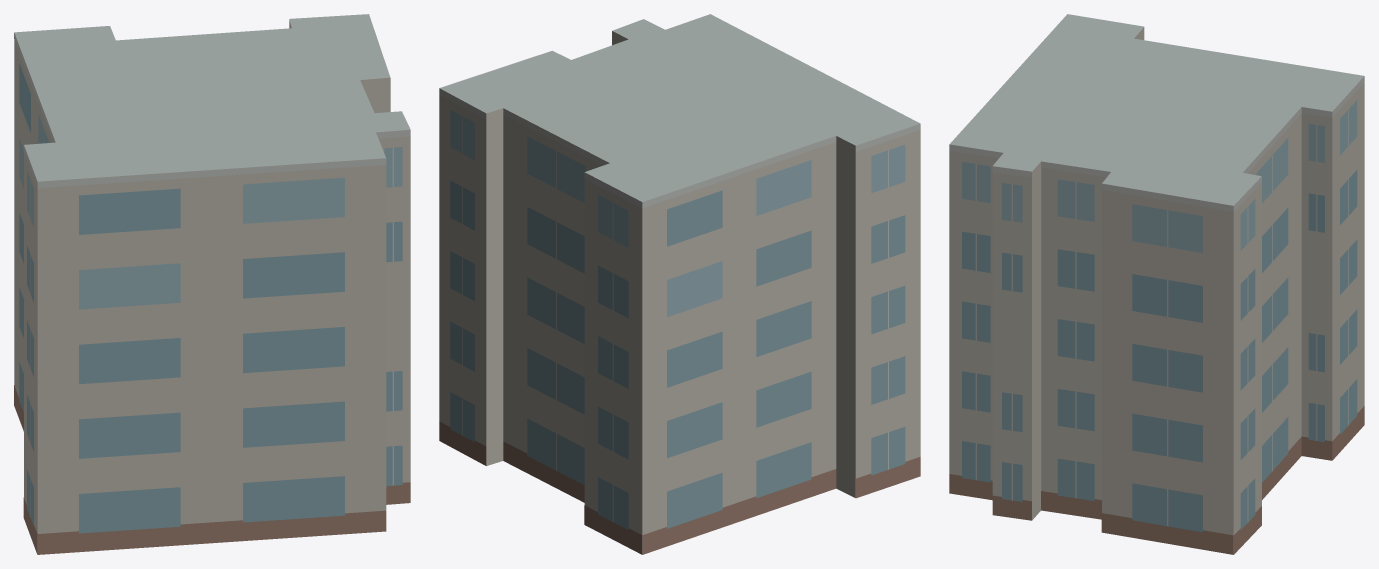
Rendered from survey-upis-32944189.glb.
3 renders of one model, left to right at view 1: azimuth 30°, elevation 25°; view 2: azimuth 150°, elevation 25°; view 3: azimuth 270°, elevation 25°, orthographic. The views are drawn at different scales.
Visible parts, largest first — view 1: survey-upis-32944189.tmp; view 2: survey-upis-32944189.tmp; view 3: survey-upis-32944189.tmp.
Part boxes in pixels (x1,y1,x2,y2): survey-upis-32944189.tmp: [14, 14, 410, 554]; survey-upis-32944189.tmp: [439, 14, 920, 554]; survey-upis-32944189.tmp: [949, 14, 1364, 554].
Size of the model in its own units: 16.4 by 13.9 by 15.
